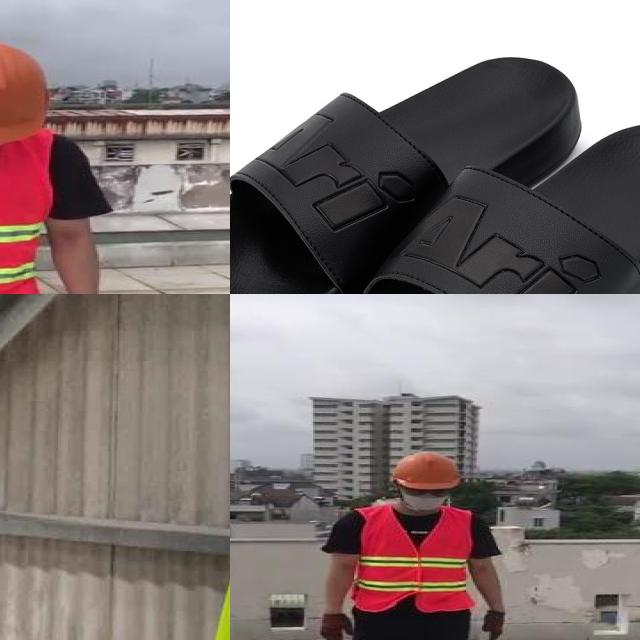Sandals: (230, 39, 640, 294)
face_mask: (398, 482, 452, 514)
glasses: (397, 482, 459, 500)
hand_glove: (318, 614, 353, 640), (482, 611, 507, 640)
head_helmet: (0, 38, 48, 143), (388, 446, 462, 492)
person: (307, 443, 517, 640), (0, 41, 117, 294)
vest: (352, 505, 473, 612)
